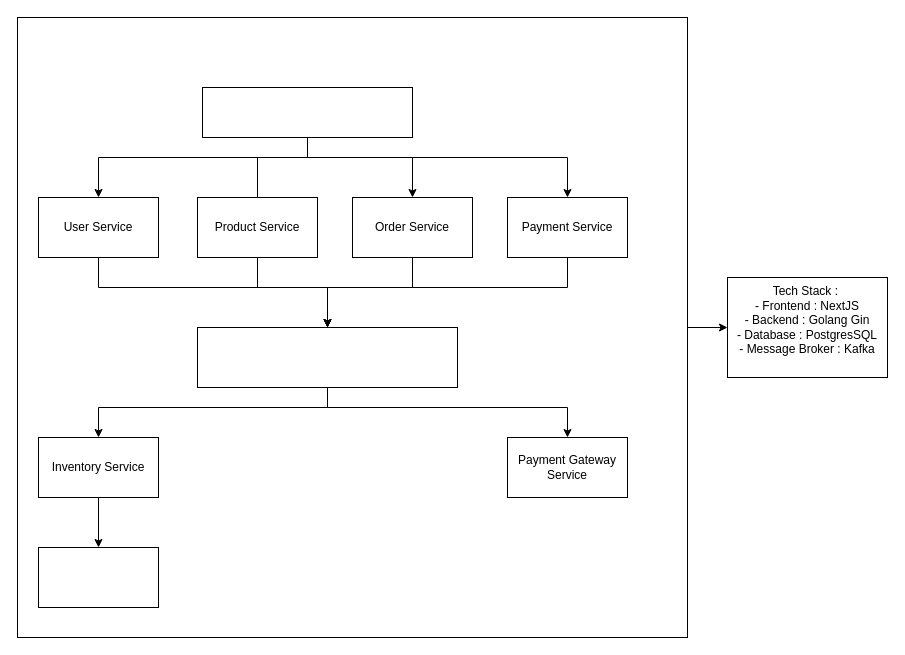
Some shapes in this 905 by 655 pixel diagram are drawn without their labels. Here are the shapes that lost their labels. From the top down, the centre of each, then its label:
[307,112]: API GATEWAY - KONG (Rate Limiter)
[327,357]: Message Queue (Kafka)
[98,577]: Database (PostgresSQL + Replica)
